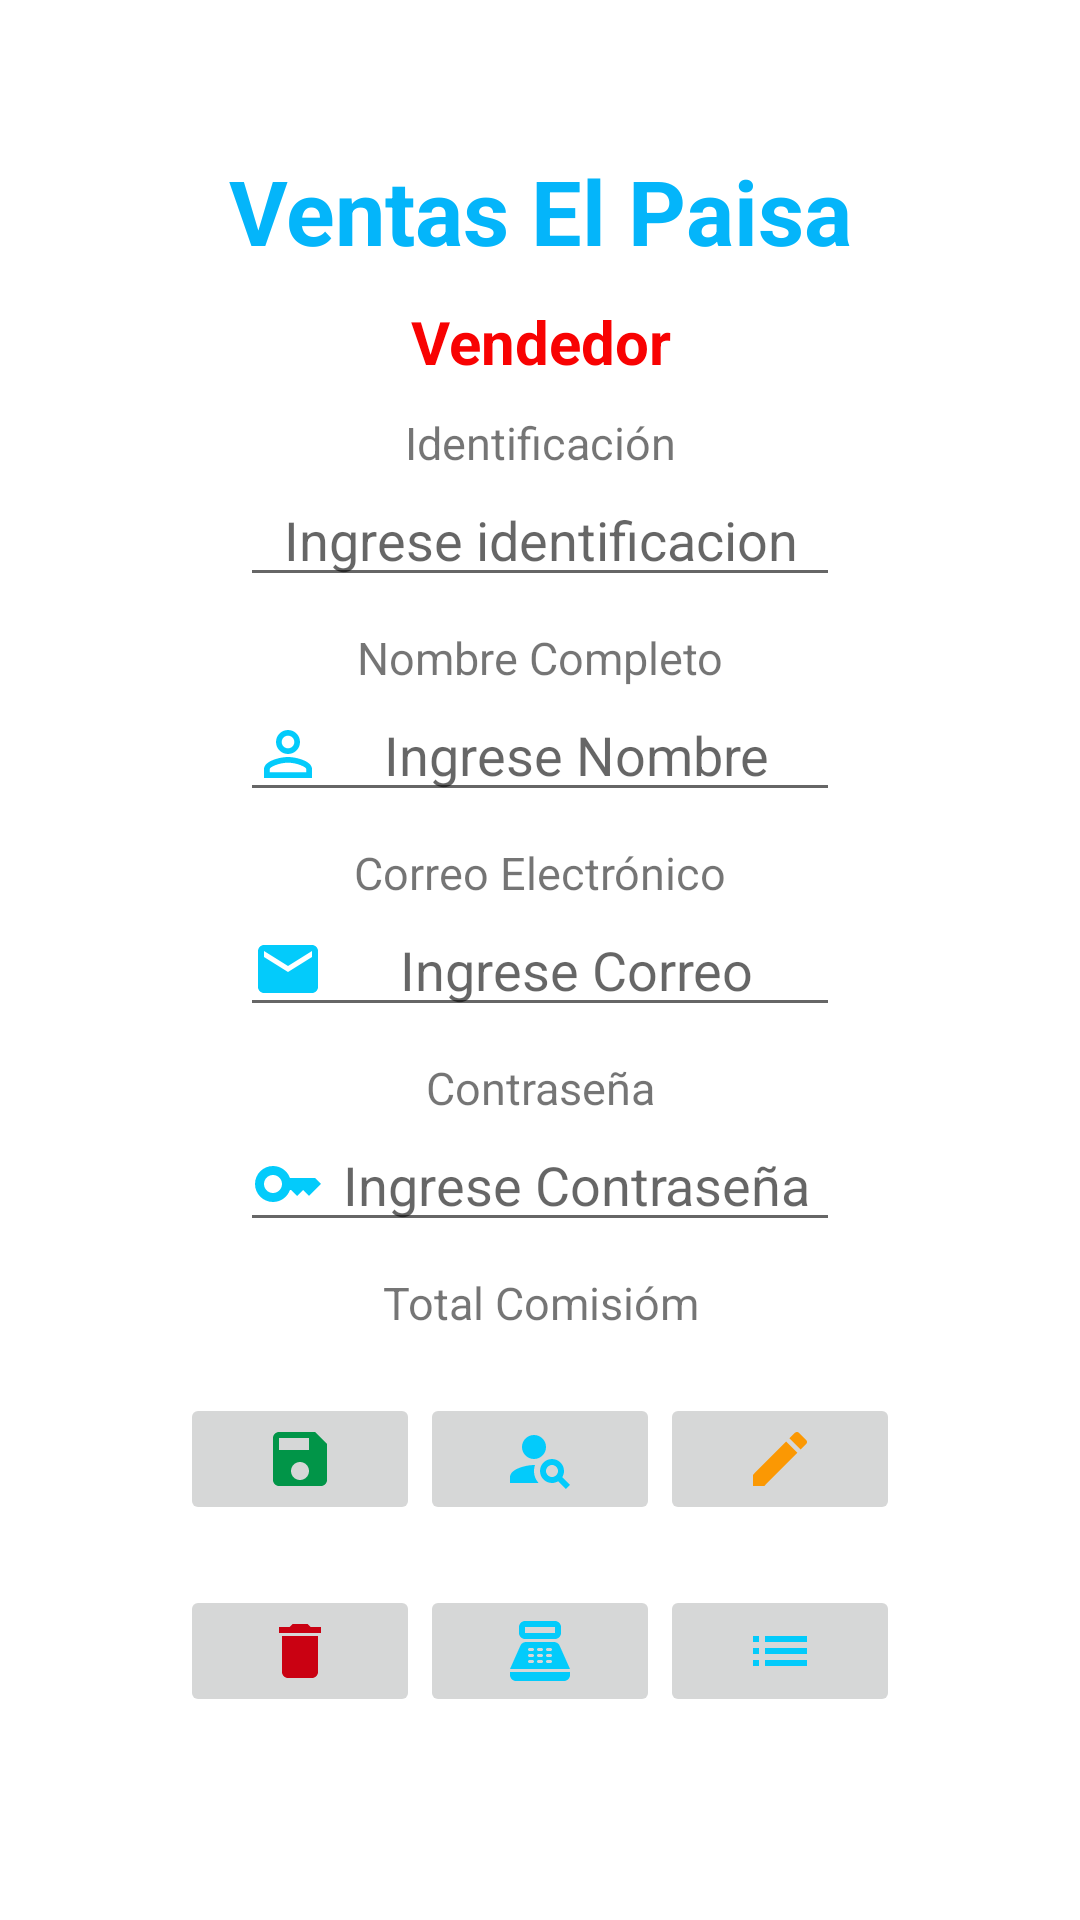

Where to tap for icons on this 1080×1920 app screen, as (x=x, y=y):
delete: (x=300, y=1651)
edit: (x=780, y=1459)
list: (x=780, y=1651)
person search: (x=540, y=1459)
point of sale: (x=540, y=1651)
save: (x=300, y=1459)
